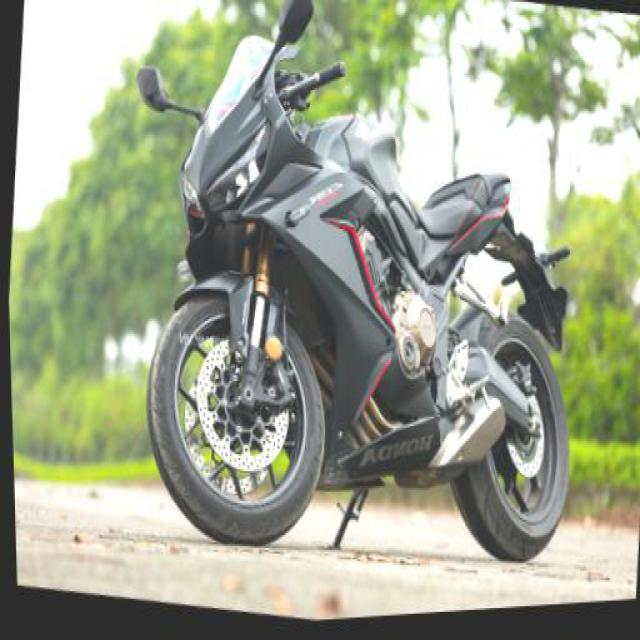CBR650R: (124, 0, 602, 612)
